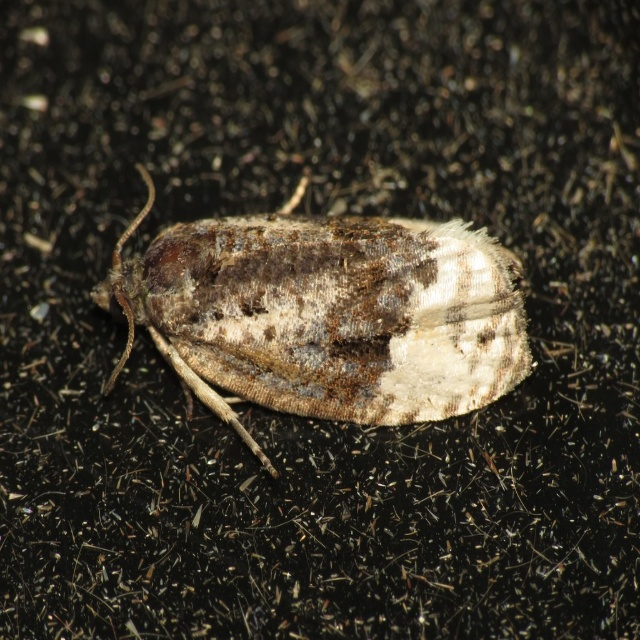Moths and butterflies: (82, 161, 538, 487)
